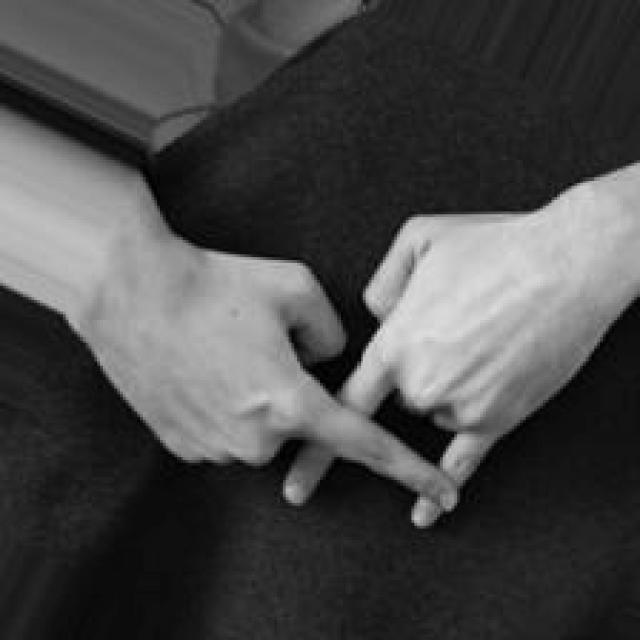H: (71, 143, 640, 531)
